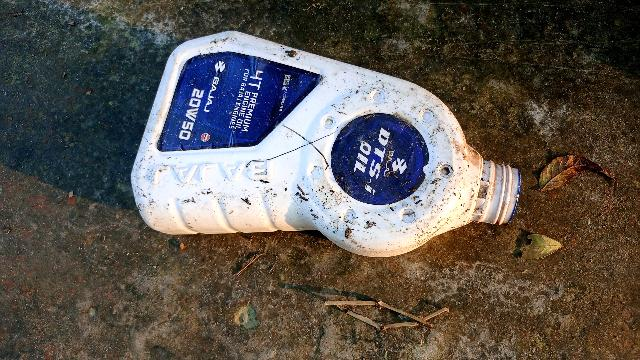bottle: (121, 24, 508, 306)
